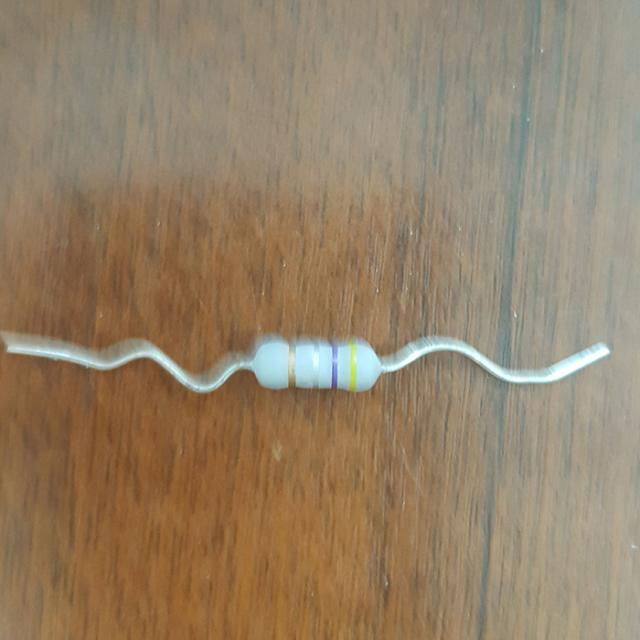Resistor Carbon-Film: (250, 341, 377, 392)
